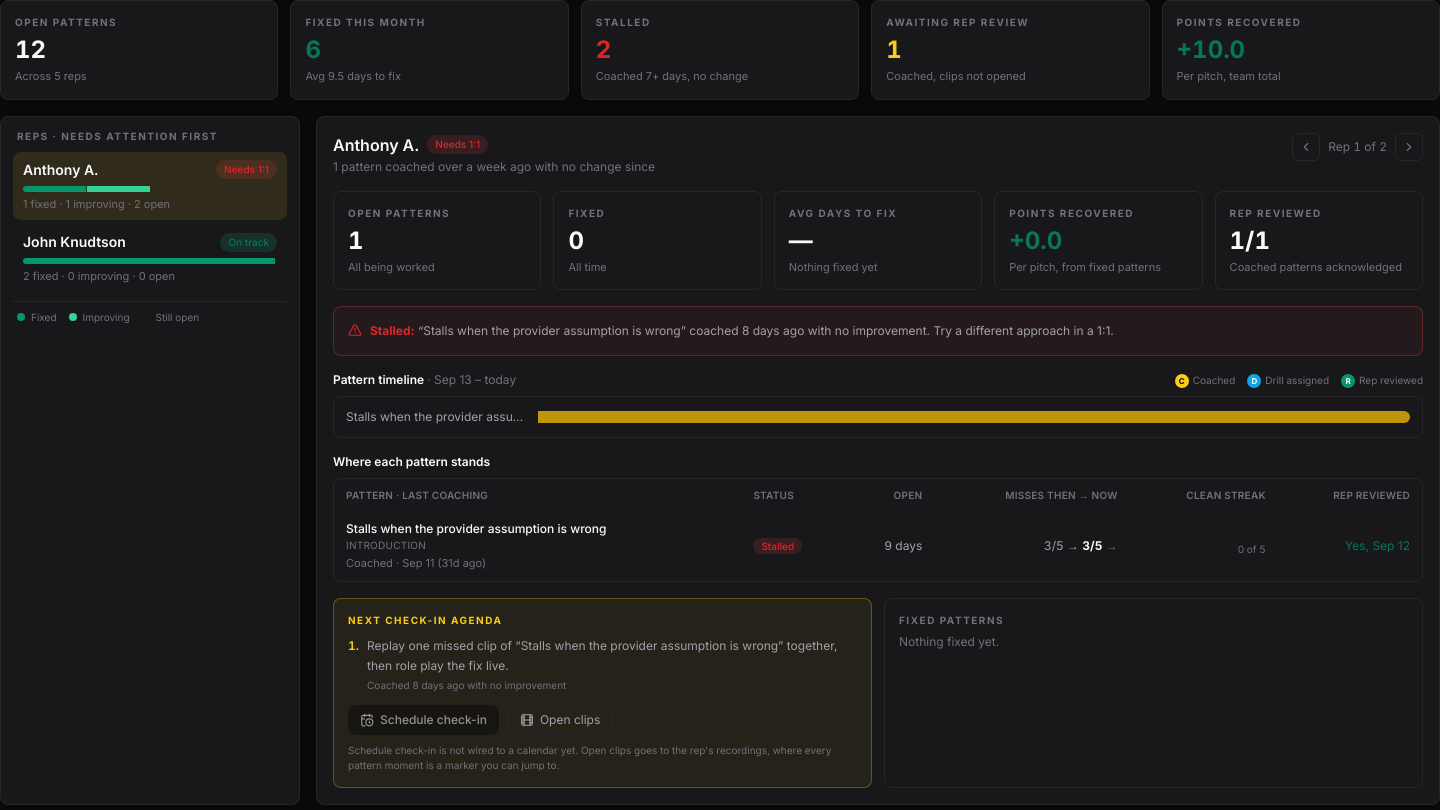
Test: the rep list › switches the panel when another rep is picked
Click the button "John Knudtson On track 2 fixed · 0 improving · 0 open" at (150, 258), box top-left (13, 224), bottom-right (287, 292)
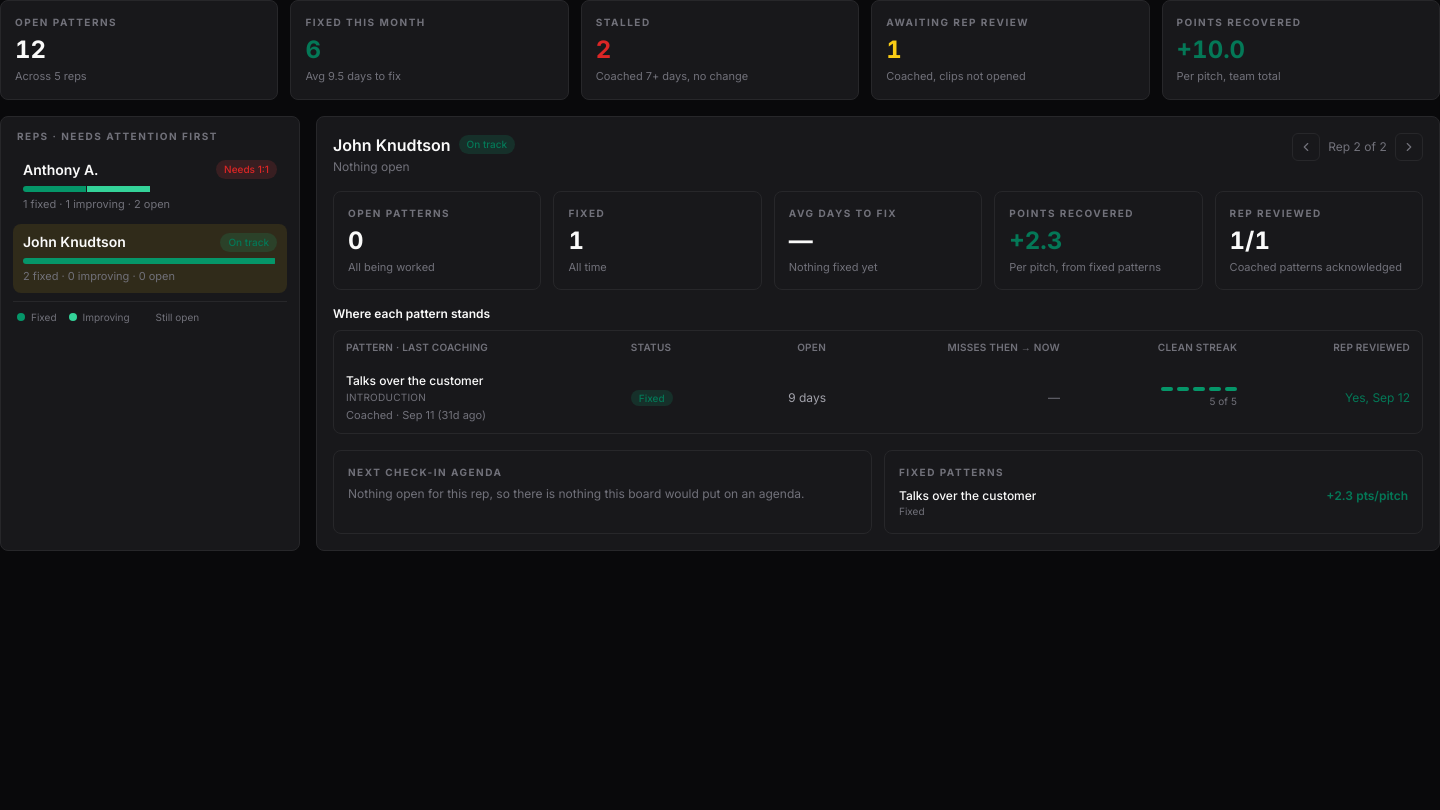
Expected: the text "Nothing open" is shown, top-left (333, 158), bottom-right (410, 174)
